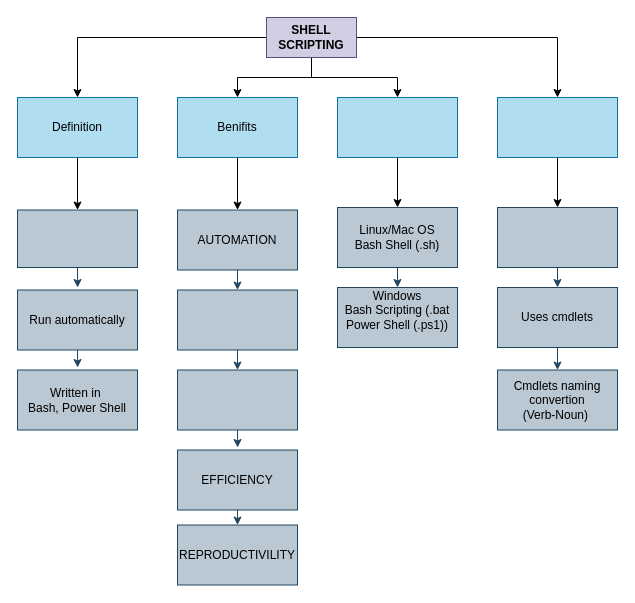
This 635x603 diagram has some shape labels left out. Here are the shapes that lost their labels. From the top down, the box of each, then its label:
(336, 96, 458, 158): Usage Environments
(496, 96, 618, 158): Power Shell
(16, 209, 138, 268): Text file with instructions
(496, 206, 618, 268): More powerful than command prompt
(176, 289, 298, 350): SAVES TIME
(176, 369, 298, 430): CONCISTENCY
